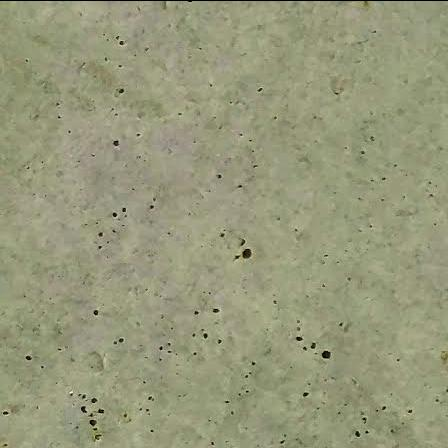spalling: (66, 399, 113, 443)
